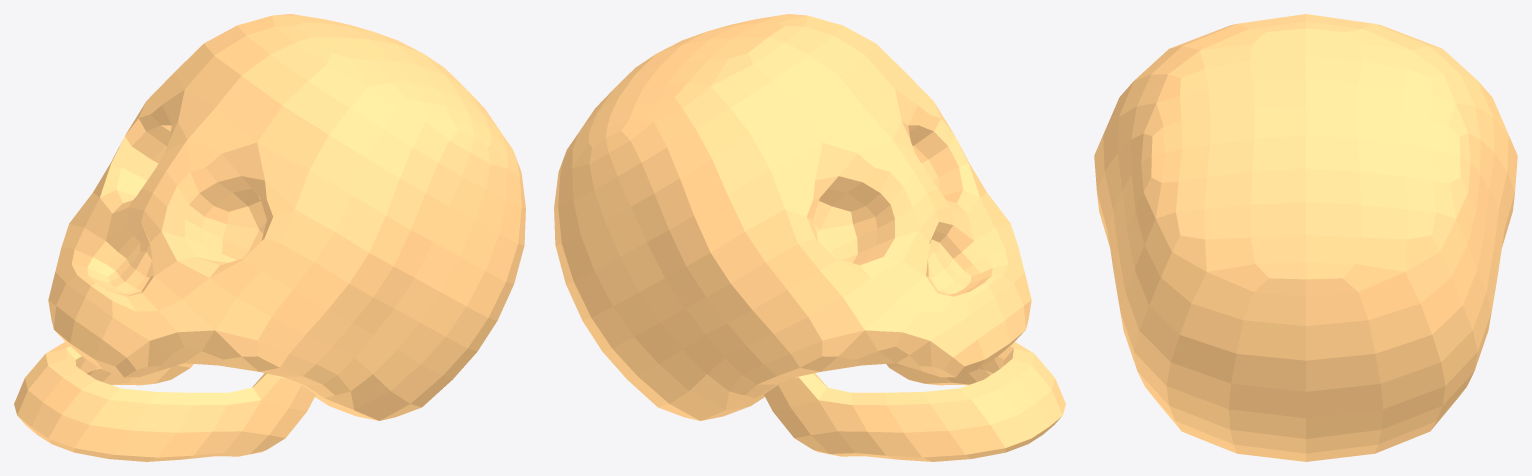
Rendered from Skull.glb.
3 views of the same model, side by side, from view 1: azimuth 30°, elevation 25°; view 2: azimuth 150°, elevation 25°; view 3: azimuth 270°, elevation 25° (orthographic). The views are drawn at different scales.
Visible parts, largest first — view 1: Skull; view 2: Skull; view 3: Skull.
Boxes of the visible parts, x1,y1,x2,y2 form: Skull: [14, 14, 525, 461]; Skull: [554, 14, 1065, 461]; Skull: [1094, 14, 1517, 461].
Bounding box in the file's own units: 60.06 × 46.1 × 43.83.
